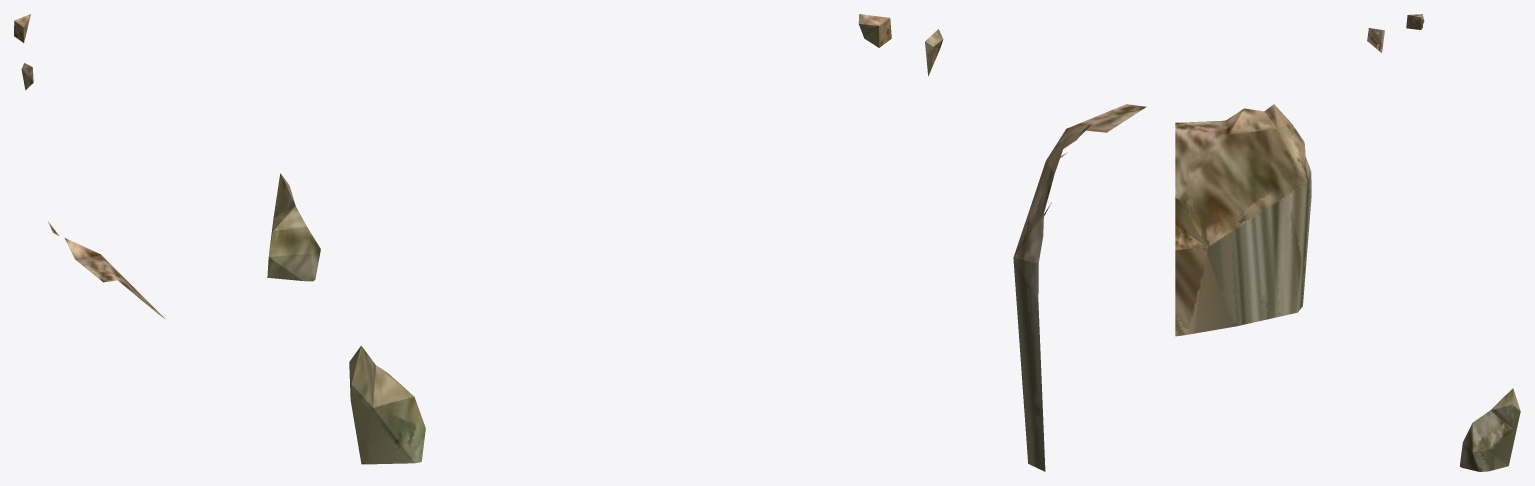
3 views of the same model, side by side, from view 1: azimuth 30°, elevation 25°; view 2: azimuth 150°, elevation 25°; view 3: azimuth 270°, elevation 25° (orthographic). The views are drawn at different scales.
Size of the model in its own units: 2.34 by 2.07 by 2.05.
1 material, 1 textured.
